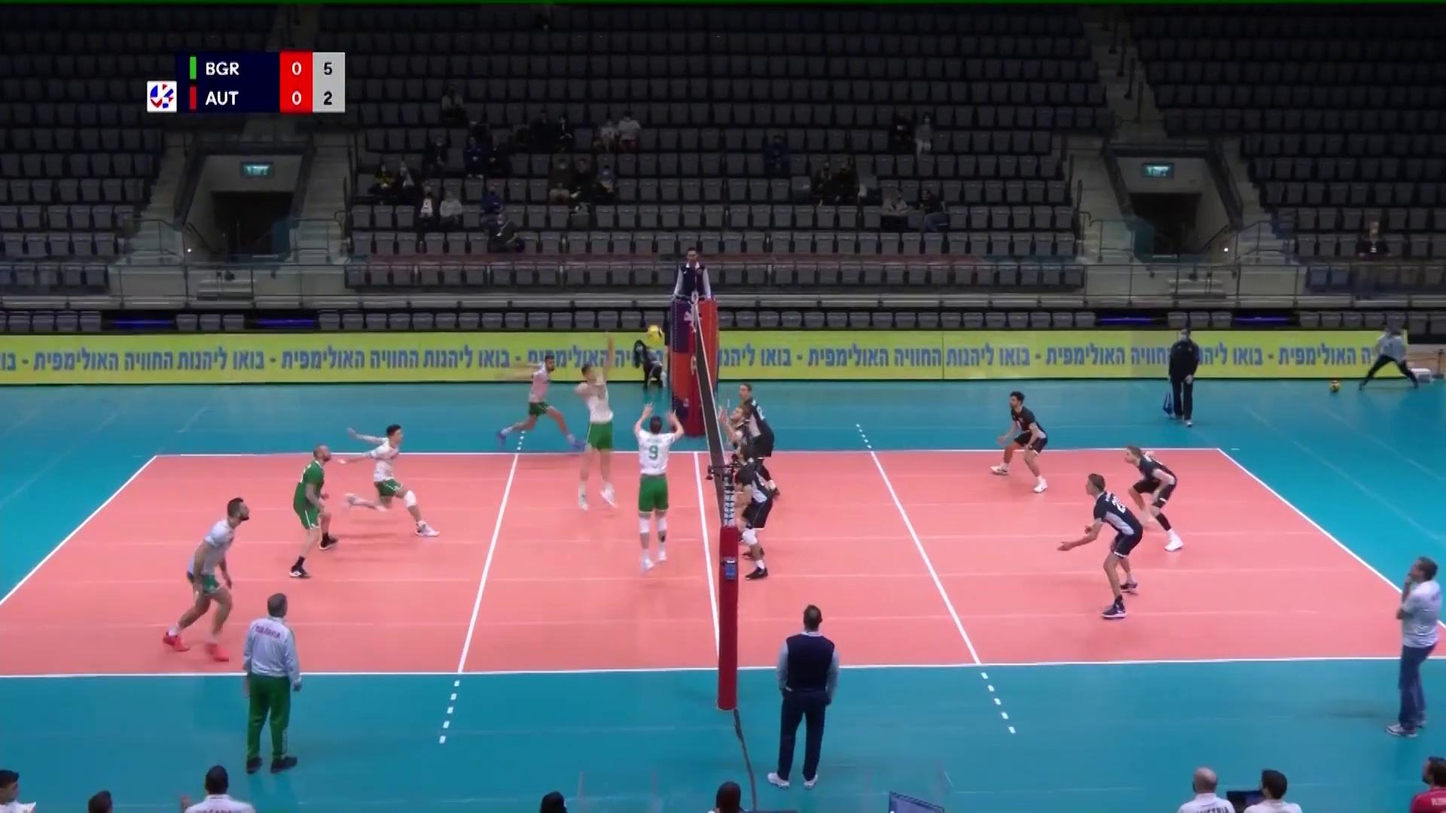ball: (648, 325, 664, 345)
